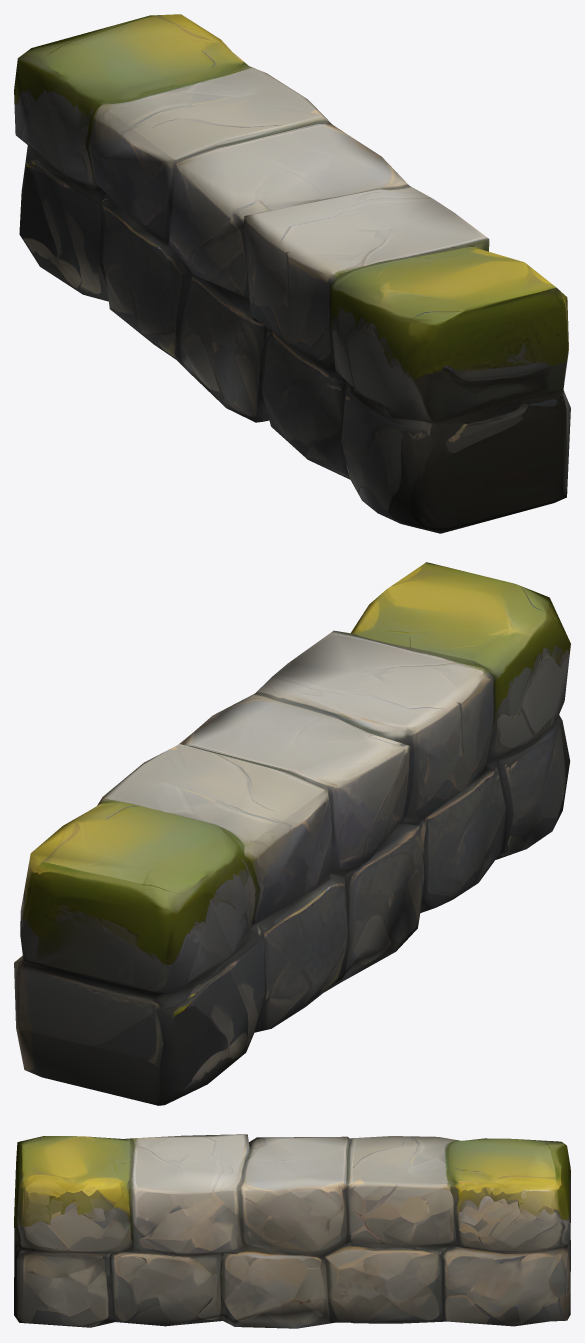
Rendered from arena_wall.glb.
3 renders of one model, top to bottom at view 1: azimuth 30°, elevation 25°; view 2: azimuth 150°, elevation 25°; view 3: azimuth 270°, elevation 25°, orthographic. The views are drawn at different scales.
Visible parts, largest first — view 1: tripo_node_406ca784-e01f-4d11-967c-2073fa05f671; view 2: tripo_node_406ca784-e01f-4d11-967c-2073fa05f671; view 3: tripo_node_406ca784-e01f-4d11-967c-2073fa05f671.
Part boxes in pixels (x1,y1,x2,y2): tripo_node_406ca784-e01f-4d11-967c-2073fa05f671: [14, 14, 570, 533]; tripo_node_406ca784-e01f-4d11-967c-2073fa05f671: [14, 562, 570, 1105]; tripo_node_406ca784-e01f-4d11-967c-2073fa05f671: [14, 1134, 570, 1328].
Bounding box in the file's own units: 0.2505 × 0.296 × 0.9994.
1 material, 1 textured.
